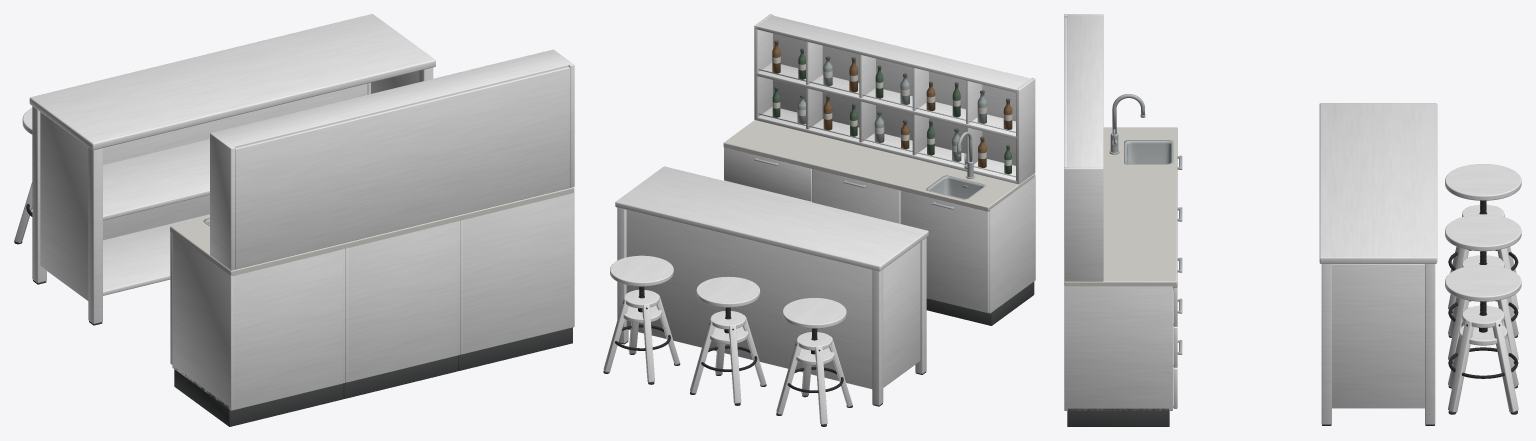
The model's file is bar-serving-island-detailed.glb.
3 views of the same model, side by side, from view 1: azimuth 30°, elevation 25°; view 2: azimuth 150°, elevation 25°; view 3: azimuth 270°, elevation 25° (orthographic). The views are drawn at different scales.
Visible parts, largest first — view 1: Recessed display backing, Serving island worktop, Kitchen cabinet back.002, Kitchen cabinet back, Kitchen cabinet back.001, Kitchen cabinet side, Recessed serving island end, Bar bottle display shelf.002, Serving island shelf.001, Recessed serving island front, Serving island shelf, Continuous bar counter (+9 smaller); view 2: Recessed serving island front, Serving island worktop, Continuous bar counter, Recessed display backing, Separate cabinet door, Kitchen cabinet side, Bar bottle display shelf.002, Recessed serving island end, Bar bottle display shelf.001, Bar bottle display shelf, Separate cabinet door.001, Separate kitchen drawer front.002 (+30 smaller); view 3: Serving island worktop, Kitchen cabinet side.005, Recessed serving island end.001, Continuous bar counter, Bar bottle display shelf.002, Bar display upright.001, Rounded timber stool seat.001, Rounded timber stool seat.002, Rounded timber stool seat, Continuous cabinet floor plinth.002, Serving island post.002, Serving island post.003 (+9 smaller).
Part boxes in pixels (x1=…): Recessed display backing: x1=235, y1=66, x2=569, y2=269; Serving island worktop: x1=29, y1=14, x2=435, y2=150; Kitchen cabinet back.002: x1=463, y1=193, x2=572, y2=354; Kitchen cabinet back: x1=233, y1=249, x2=342, y2=410; Kitchen cabinet back.001: x1=348, y1=221, x2=457, y2=382; Kitchen cabinet side: x1=172, y1=233, x2=233, y2=410; Recessed serving island end: x1=40, y1=112, x2=88, y2=300; Bar bottle display shelf.002: x1=213, y1=50, x2=569, y2=147; Serving island shelf.001: x1=103, y1=139, x2=209, y2=220; Recessed serving island front: x1=103, y1=83, x2=367, y2=240; Serving island shelf: x1=103, y1=214, x2=209, y2=295; Continuous bar counter: x1=170, y1=187, x2=574, y2=276; Recessed serving island front: x1=626, y1=210, x2=872, y2=388; Serving island worktop: x1=615, y1=166, x2=928, y2=271; Continuous bar counter: x1=723, y1=120, x2=1035, y2=211; Recessed display backing: x1=773, y1=33, x2=1015, y2=165; Separate cabinet door: x1=900, y1=190, x2=989, y2=312; Kitchen cabinet side: x1=988, y1=177, x2=1035, y2=313; Bar bottle display shelf.002: x1=756, y1=15, x2=1031, y2=92; Recessed serving island end: x1=883, y1=242, x2=920, y2=387; Bar bottle display shelf.001: x1=756, y1=63, x2=1017, y2=139; Bar bottle display shelf: x1=756, y1=107, x2=1017, y2=183; Separate cabinet door.001: x1=812, y1=169, x2=900, y2=223; Separate kitchen drawer front.002: x1=724, y1=147, x2=811, y2=201; Serving island worktop: x1=1319, y1=103, x2=1437, y2=263; Kitchen cabinet side.005: x1=1064, y1=286, x2=1172, y2=410; Recessed serving island end.001: x1=1332, y1=264, x2=1424, y2=408; Continuous bar counter: x1=1064, y1=127, x2=1177, y2=287; Bar bottle display shelf.002: x1=1067, y1=15, x2=1103, y2=167; Bar display upright.001: x1=1064, y1=167, x2=1103, y2=281; Rounded timber stool seat.001: x1=1445, y1=214, x2=1521, y2=251; Rounded timber stool seat.002: x1=1445, y1=265, x2=1521, y2=301; Rounded timber stool seat: x1=1445, y1=164, x2=1521, y2=200; Continuous cabinet floor plinth.002: x1=1067, y1=408, x2=1169, y2=426; Serving island post.002: x1=1321, y1=264, x2=1331, y2=424; Serving island post.003: x1=1425, y1=264, x2=1435, y2=424.
Bounding box in the file's own units: 2.06 × 1.6 × 2.57.
11 materials, 1 textured.
